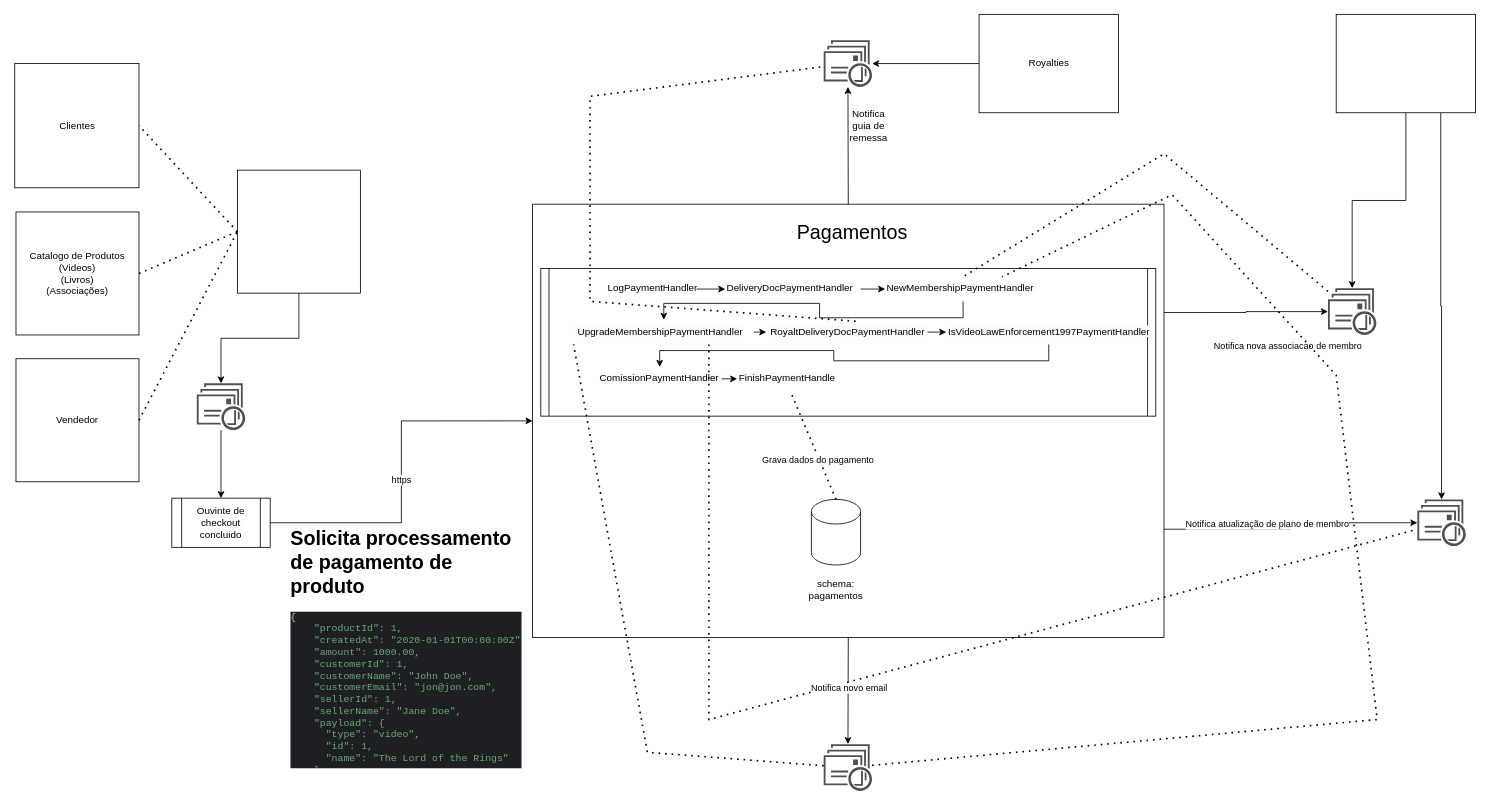
Image size: 1490x805. Some labels were removed from this diagram. The centre of each missing label's shape, as x and y in pixels:
"Associacao" goes at (1405,63).
"Checkout" goes at (298,231).
